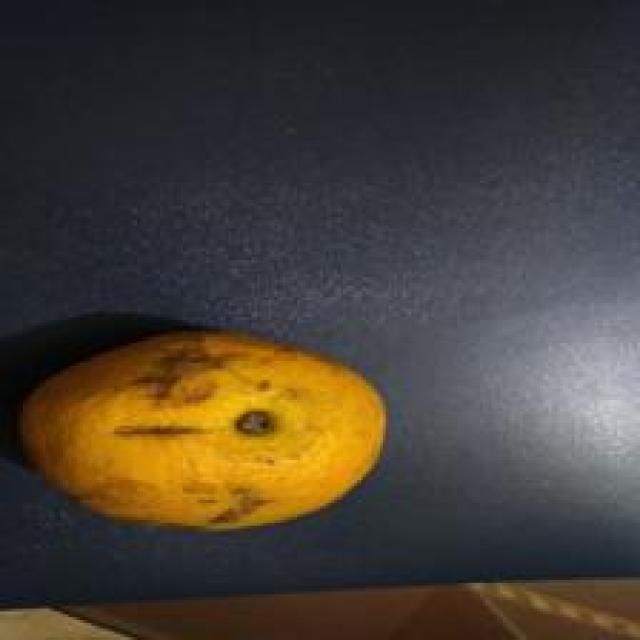overripe: (12, 325, 393, 532)
